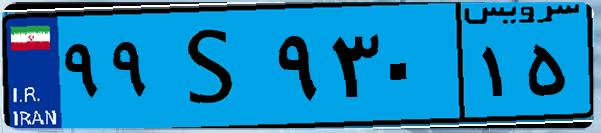0: (385, 28, 445, 110)
1: (475, 38, 525, 113)
3: (330, 28, 385, 110)
5: (525, 38, 570, 115)
9: (270, 28, 330, 110), (57, 26, 110, 100), (110, 28, 158, 98)
S: (158, 12, 270, 120)
